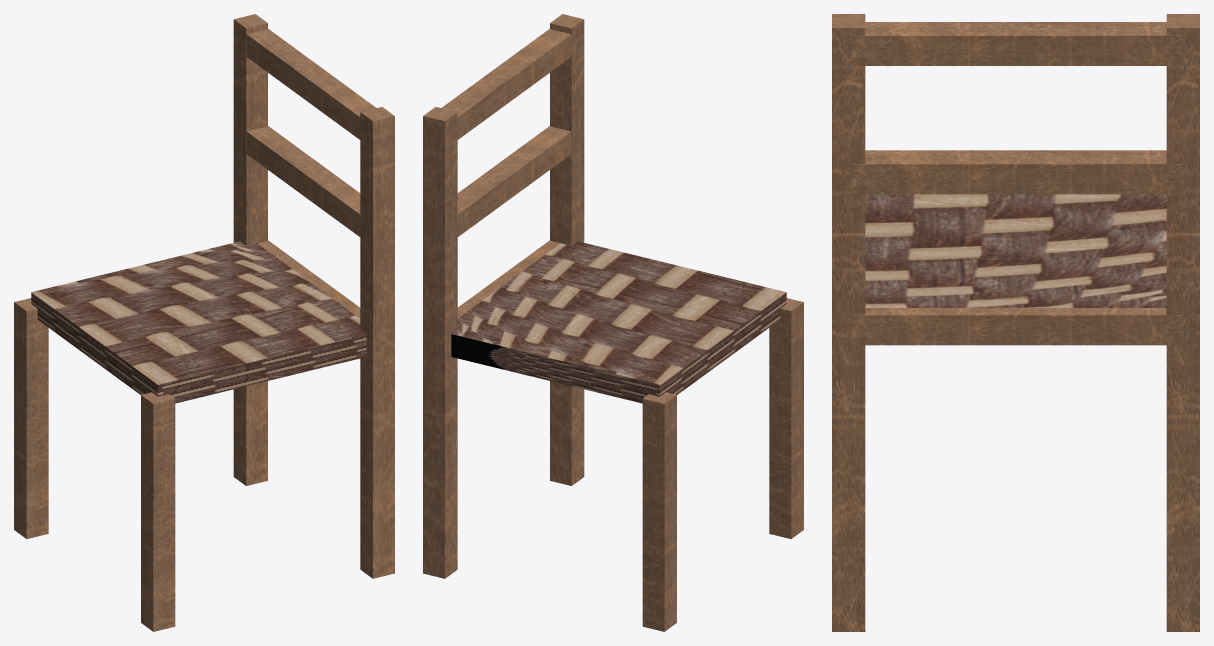
The model's file is chair.glb.
The picture shows the model from 3 angles, left to right: view 1: azimuth 30°, elevation 25°; view 2: azimuth 150°, elevation 25°; view 3: azimuth 270°, elevation 25°; orthographic projection. The views are drawn at different scales.
Parts seen in each view (by area): view 1: Chair.005; view 2: Chair.005; view 3: Chair.005.
Boxes of the visible parts, x1,y1,x2,y2 form: Chair.005: (14,14,394,631); Chair.005: (423,14,803,631); Chair.005: (832,14,1199,631).
Size of the model in its own units: 3.32 by 6 by 3.31.
2 materials, 2 textured.
